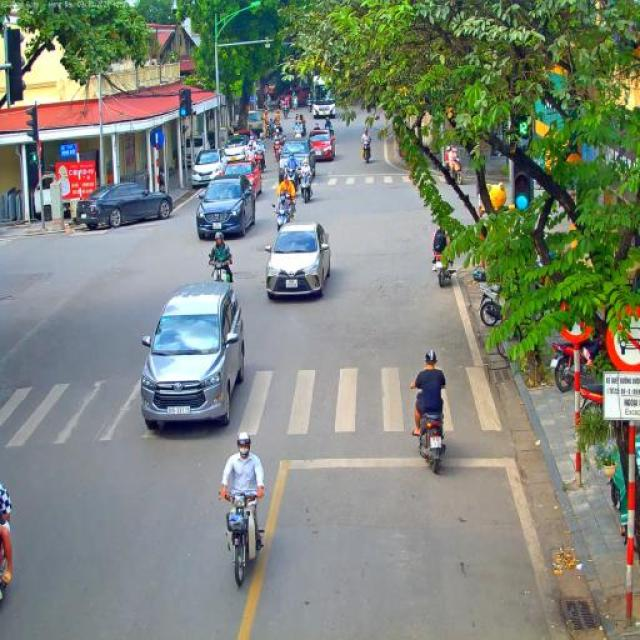bus: (312, 76, 337, 119)
car: (140, 280, 245, 430), (264, 220, 332, 300), (76, 181, 173, 230), (195, 174, 257, 241), (220, 159, 262, 202), (278, 138, 316, 182), (191, 148, 227, 186), (222, 133, 254, 165), (306, 128, 336, 162), (233, 130, 253, 138)
motorcycle: (220, 491, 264, 587), (548, 336, 598, 392), (417, 406, 448, 474), (478, 284, 504, 328), (0, 516, 12, 604), (432, 250, 458, 288), (272, 198, 296, 234), (580, 382, 604, 409), (297, 173, 315, 204), (209, 260, 231, 284), (451, 159, 464, 186), (361, 138, 372, 164), (284, 168, 298, 188), (272, 140, 283, 162), (254, 150, 265, 172), (246, 147, 256, 171), (267, 122, 275, 139), (282, 105, 290, 119), (291, 96, 299, 110), (293, 129, 303, 139), (263, 101, 268, 113), (308, 100, 312, 112)
truck: (246, 110, 262, 138)
